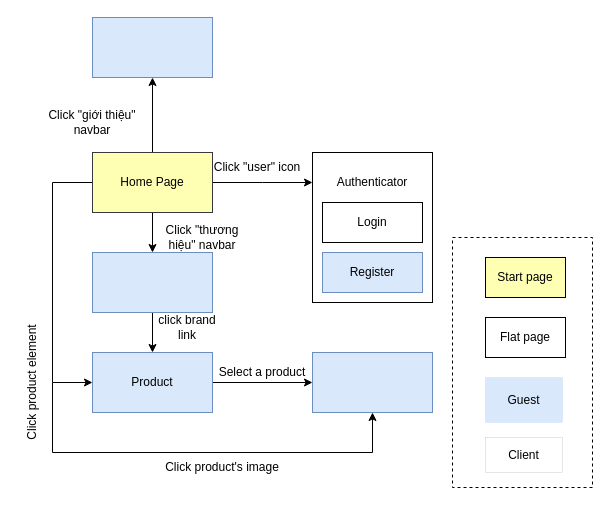
Some shapes in this 610 by 505 pixel diagram are drawn without their labels. The shapes that lost their labels are listed below. From the top down, each one's centre as x and y in pixels, then its label:
[152,47]: Introduce
[152,282]: Brand
[372,382]: Product Detail
